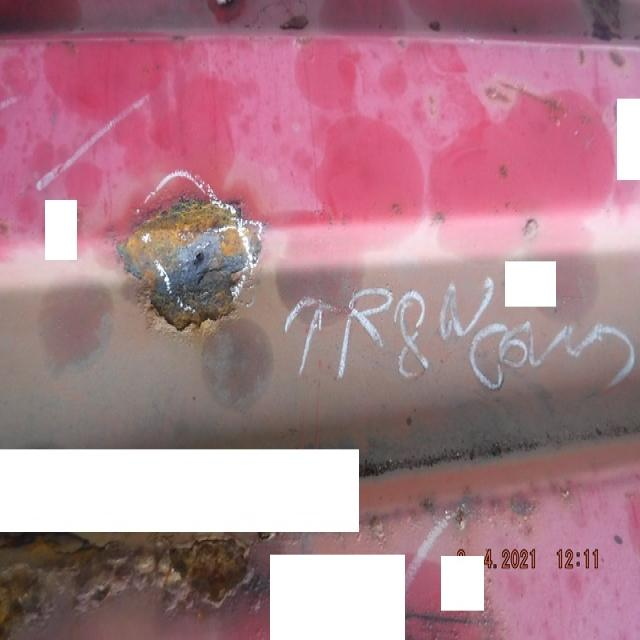rust: (1, 533, 258, 640), (117, 197, 266, 337)
